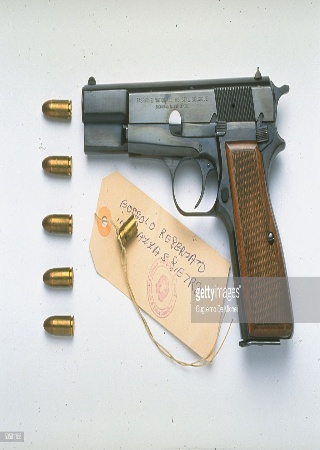handgun: (80, 74, 297, 353)
